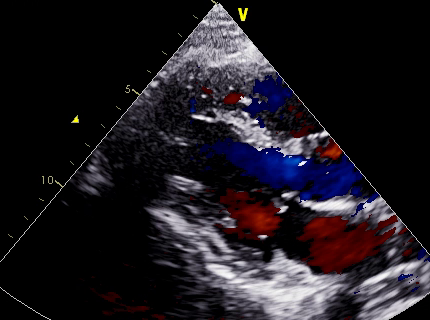AR: (220, 168, 309, 227)
